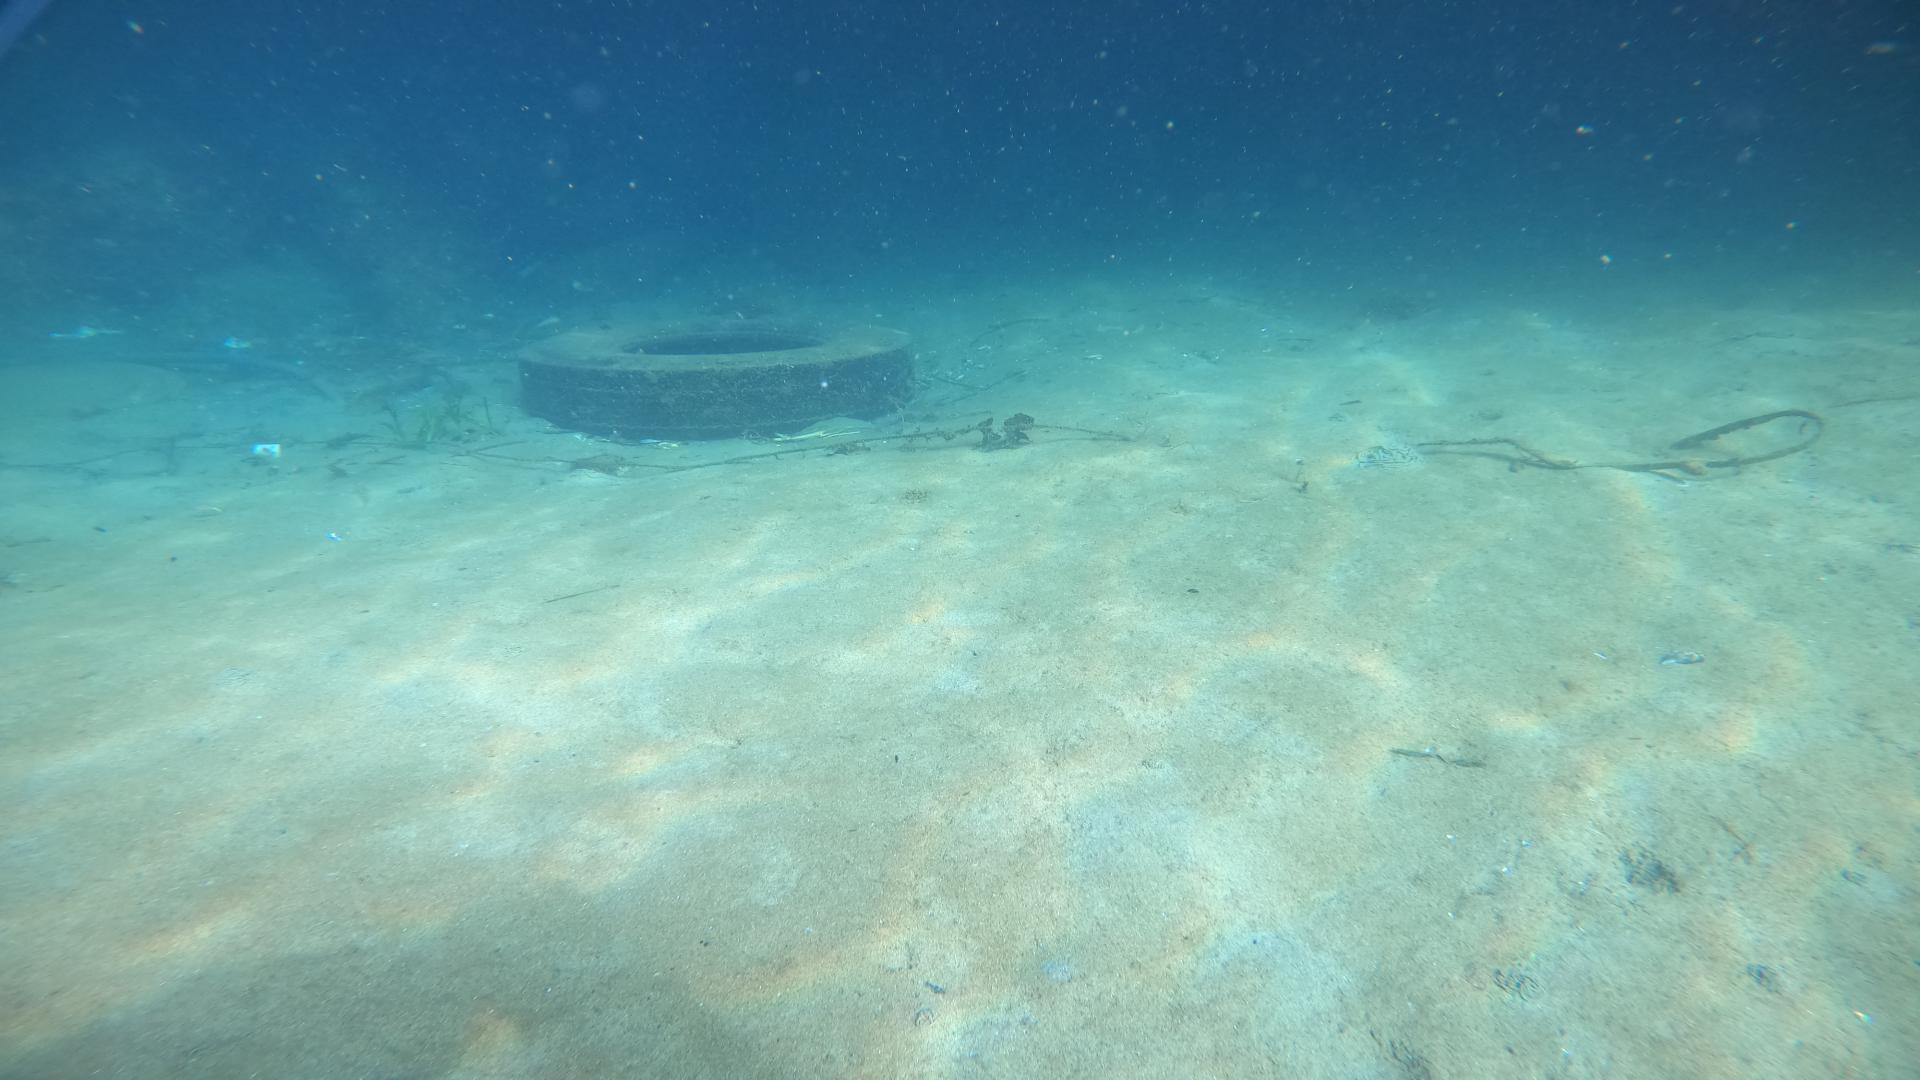bundle of rope: (558, 392, 1833, 492)
tire: (513, 316, 916, 436)
